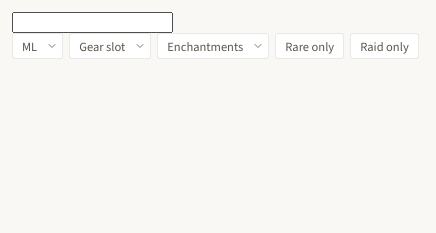
FilterChipRow › closes a picker from its chip and returns focus there
The image size is (436, 233).
Click the button "Gear slot".
click(110, 46)  # box x1=69 y1=33 x2=151 y2=59
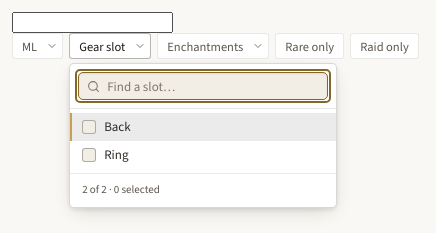
Click the button "Gear slot".
click(110, 46)  # box x1=69 y1=33 x2=151 y2=59
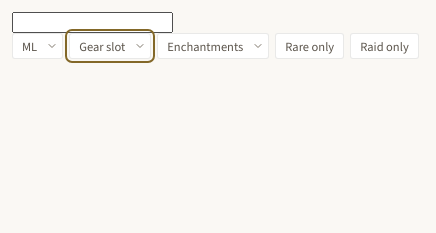
Expected: the dropdown is gone
